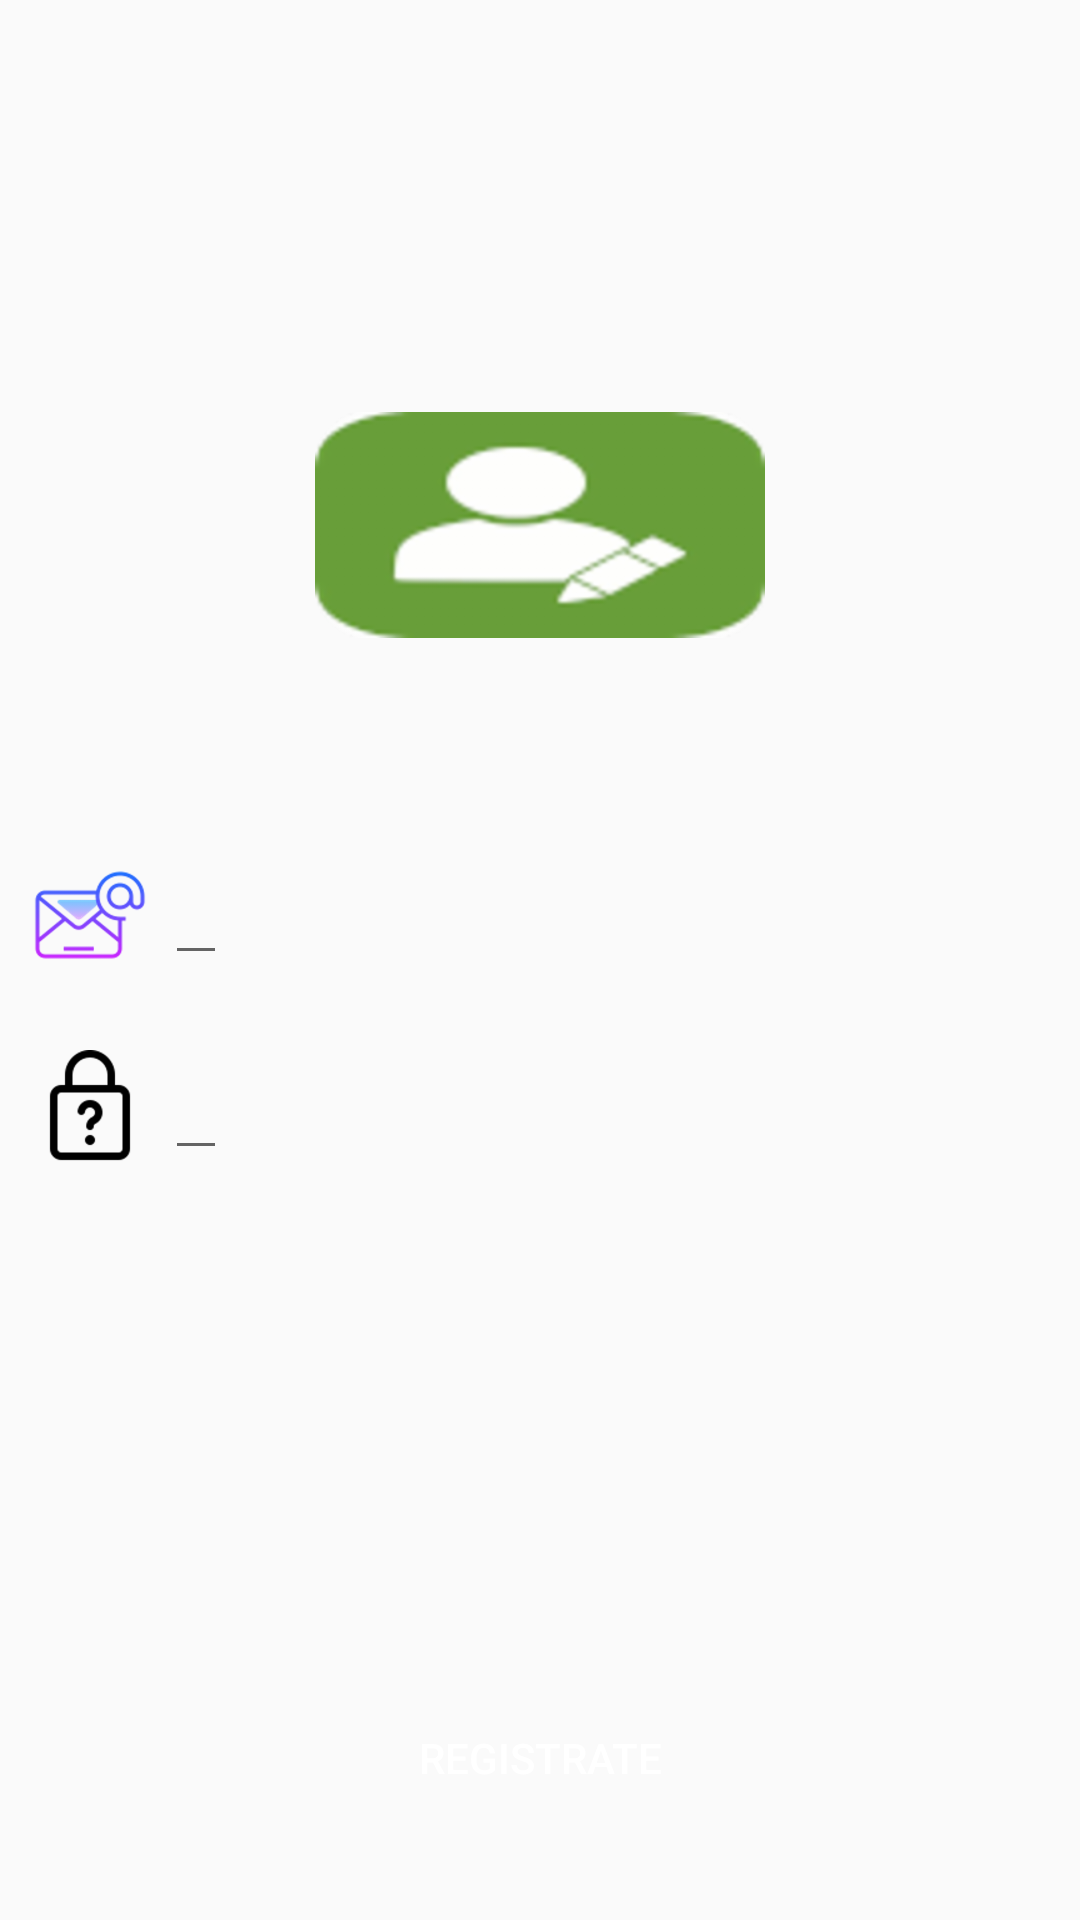

Point at icon controls on the screen. Image size 1080px x 1920px, points as (x=x, y=y).
iconemail: (x=90, y=915)
iconpass: (x=90, y=1105)
